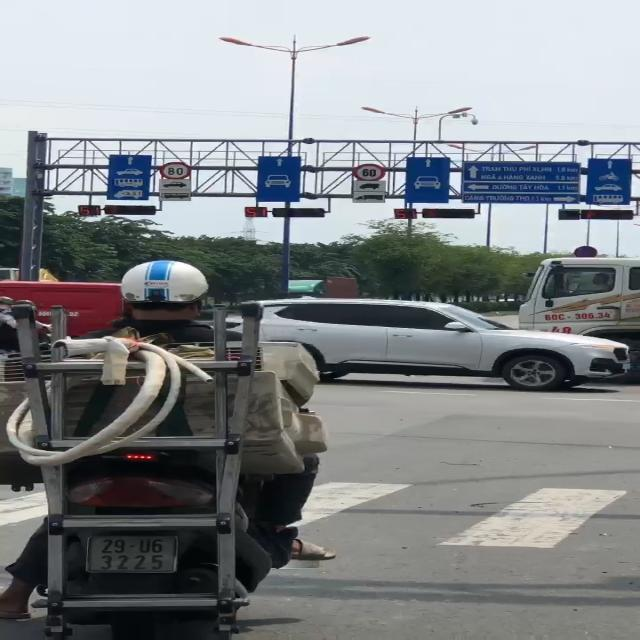Bien bao toc do toi da cho phep: (350, 162, 389, 183), (157, 160, 192, 182)
